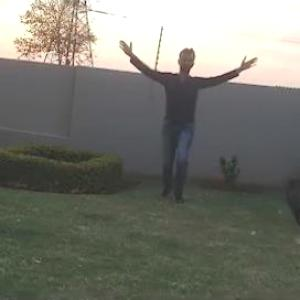takeoff: (88, 32, 246, 211)
